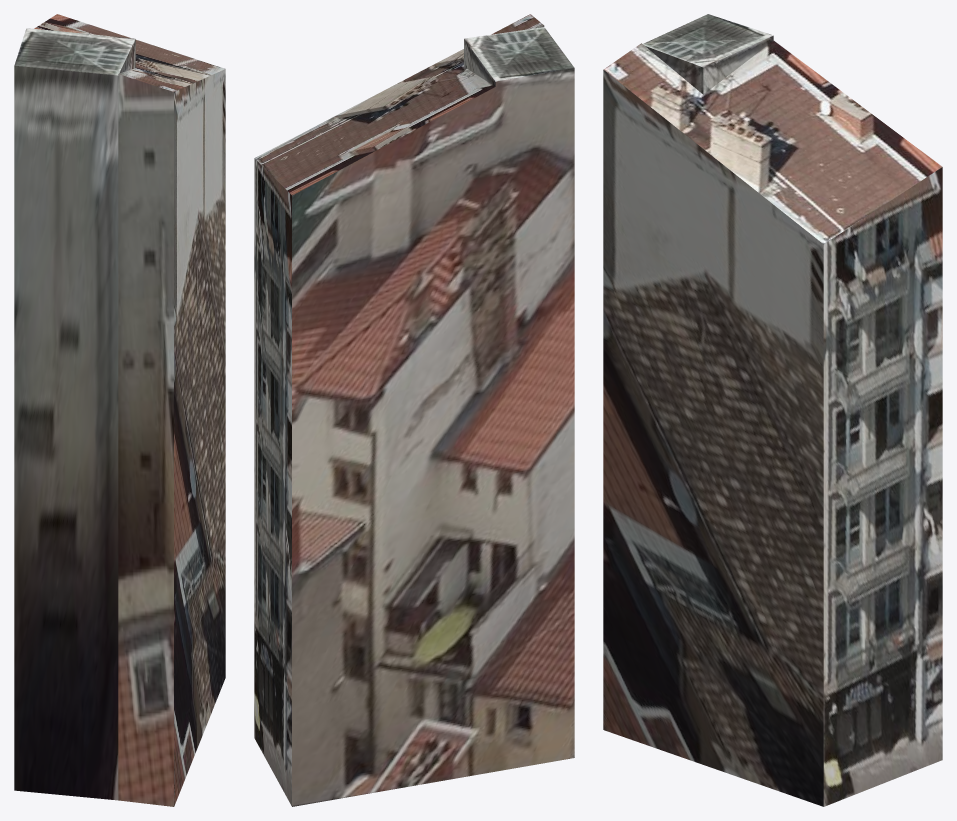
The picture shows the model from 3 angles, left to right: view 1: azimuth 30°, elevation 25°; view 2: azimuth 150°, elevation 25°; view 3: azimuth 270°, elevation 25°; orthographic projection. The views are drawn at different scales.
Visible parts, largest first — view 1: Z_UP; view 2: Z_UP; view 3: Z_UP.
Boxes of the visible parts, x1,y1,x2,y2 form: Z_UP: [14, 14, 225, 806]; Z_UP: [254, 14, 574, 806]; Z_UP: [603, 14, 942, 806].
Bounding box in the file's own units: 9.95 × 25.23 × 11.56.
2 materials, 1 textured.
